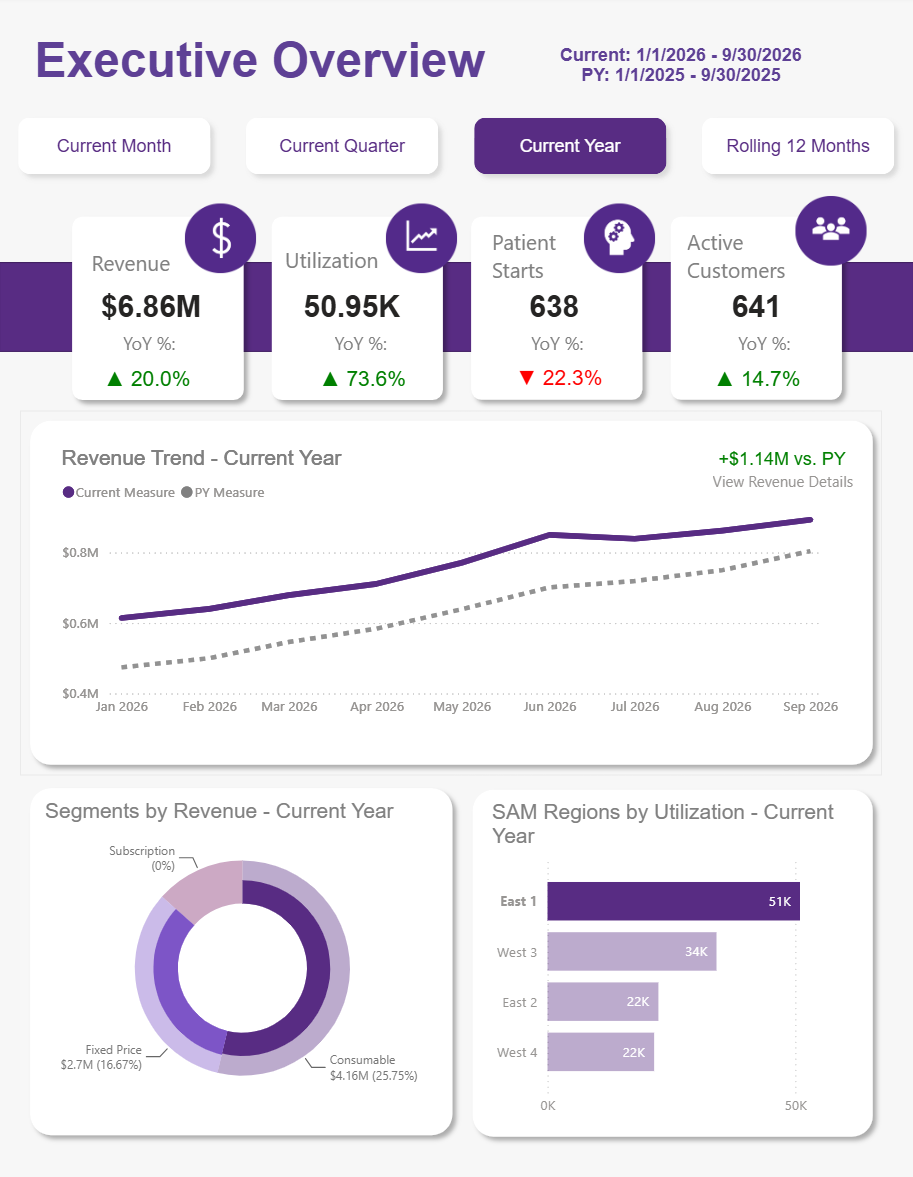

This screenshot's page, from the dashboard's own definition file:
{"tool":"powerbi","page":{"name":"Executive Summary","canvas":[816,1056],"ordinal":0},"visuals":[{"type":"shape","box":[56.5,187.8,170.9,181.3],"z":0,"group":"g2"},{"type":"group","id":"g1","title":"Group 3","box":[18.4,697.4,394,327],"z":0},{"type":"shape","box":[18.4,697.4,394,327],"z":0,"group":"g1"},{"type":"shape","box":[412.4,698.7,374.3,327],"z":0,"group":"g3"},{"type":"donutChart","fields":{"Category":["Daily Revenue.Account Segment"],"Y":["Daily Revenue.Current Daily Measure"]},"box":[36.1,715.4,361.5,288.5],"z":250,"group":"g1"},{"type":"donutChart","fields":{"Category":["Monthly Revenue.Account Segment"],"Y":["Monthly Revenue.KPI Revenue - Total Period"]},"box":[34.6,713.5,363.3,291.6],"z":500,"group":"g1"},{"type":"shape","box":[234.6,187.8,170.5,181.3],"z":1000,"group":"g2"},{"type":"shape","box":[0,237.7,815.6,80.1],"z":1000},{"type":"advancedSlicerVisual","fields":{"Values":["Period Selection.Period"]},"box":[0,91.9,815.6,84.1],"z":2000},{"type":"shape","box":[412.3,187.8,170.5,181],"z":2000,"group":"g2"},{"type":"shape","box":[590,187.8,170.5,181],"z":3000,"group":"g2"},{"type":"shape","box":[18.4,370.4,768.4,324.4],"z":3000},{"type":"card","fields":{"Values":["Monthly Revenue.KPI Revenue - Total Period"]},"box":[70.8,246,128.1,60],"z":3500,"group":"g2"},{"type":"card","fields":{"Values":["Monthly Utz.KPI - Utilization Period"]},"box":[250.7,246,128,60],"z":3750,"group":"g2"},{"type":"card","fields":{"Values":["Patient Starts.KPI - Starts Period"]},"box":[430.4,246,128,60],"z":3875,"group":"g2"},{"type":"card","fields":{"Values":["Active Customers Monthly.KPI - Active Customers Period"]},"box":[610.1,246,128,60],"z":3937,"group":"g2"},{"type":"group","id":"g2","title":"Group 1","box":[56.5,187.8,704,181.3],"z":4000},{"type":"textbox","box":[78.2,219.6,88,40.7],"z":4000,"group":"g2"},{"type":"textbox","box":[249.8,217,98.7,36],"z":5000,"group":"g2"},{"type":"group","id":"g3","title":"Group 3","box":[412.4,698.7,374.3,327],"z":5000},{"type":"image","box":[134,179.9,127.4,72.2],"z":6000},{"type":"textbox","box":[434.1,201.2,90.6,78.8],"z":6000,"group":"g2"},{"type":"image","box":[312.6,179.9,127.4,72.2],"z":7000},{"type":"barChart","fields":{"Category":["Monthly Utz.Region"],"Y":["Monthly Utz.KPI - Utilization Period"]},"box":[433.4,717.7,333.7,289],"z":7000,"group":"g3"},{"type":"image","box":[488.6,179.9,127.4,72.2],"z":8000},{"type":"image","box":[677.7,173.4,127.4,72.2],"z":9000},{"type":"lineChart","fields":{"Category":["DimDate.DayOfMonth"],"Y":["Daily Revenue.Current Daily Measure","Daily Revenue.PY Daily Measure"]},"box":[53.9,400.6,701.4,249.6],"z":10000},{"type":"lineChart","fields":{"Category":["Monthly Revenue.MM/YYYY"],"Y":["Monthly Revenue.Current Measure","Monthly Revenue.PY Measure"]},"box":[51.3,402.6,701.4,249.6],"z":11000},{"type":"card","fields":{"Values":["Measure Table.Selected Period Date Range"]},"box":[478.2,28.2,257.4,68.3],"z":12000},{"type":"textbox","box":[105.9,293.2,59.2,47.7],"z":12000,"group":"g2"},{"type":"textbox","box":[294,293.2,59.2,47.7],"z":13000,"group":"g2"},{"type":"card","fields":{"Values":["Patient Starts.Starts - Total YoY Display"]},"box":[429.5,320.8,137,42],"z":13000},{"type":"textbox","box":[26.9,28.2,446.1,73.5],"z":14000},{"type":"textbox","box":[469.3,293.2,59.2,47.7],"z":14000,"group":"g2"},{"type":"textbox","box":[653.5,293.2,60.9,47.7],"z":15000,"group":"g2"},{"type":"lineChart","fields":{"Category":["Monthly Revenue.MM/YYYY"],"Y":["Monthly Revenue.Current Measure","Monthly Revenue.PY Measure"]},"box":[51.3,402.6,701.4,249.6],"z":15000},{"type":"card","fields":{"Values":["Monthly Revenue.Revenue Variance Formatted"]},"box":[628.2,400,138.5,29.5],"z":16000},{"type":"actionButton","title":"See Details","box":[620.5,419.2,153.8,20.5],"z":16001},{"type":"textbox","box":[607.5,201.2,140.5,65.7],"z":19500,"group":"g2"},{"type":"card","fields":{"Values":["Monthly Revenue.Revenue - Total YoY Display"]},"box":[63.6,320.8,137.9,42],"z":20000,"group":"g2"},{"type":"card","fields":{"Values":["Monthly Utz.Utz - Total YoY Display"]},"box":[255.1,320.8,137,42],"z":20500,"group":"g2"},{"type":"card","fields":{"Values":["Active Customers Monthly.Active Customers - Total YoY Display"]},"box":[606.2,320.8,137,42],"z":21500,"group":"g2"}]}

Visuals, with their boxes in screenshot pixels (x1, y1, x2, y2), scaled from the page's 816x1056 canvas onto the 913x1177 screenshot:
shape: 63 209 254 411
"Group 3" group: 21 777 461 1142
shape: 21 777 461 1142
shape: 461 779 880 1143
donutChart - Daily Revenue.Account Segment x Daily Revenue.Current Daily Measure: 40 797 445 1119
donutChart - Monthly Revenue.Account Segment x Monthly Revenue.KPI Revenue - Total Period: 39 795 445 1120
shape: 262 209 453 411
shape: 0 265 912 354
advancedSlicerVisual - Period Selection.Period: 0 102 912 196
shape: 461 209 652 411
shape: 660 209 851 411
shape: 21 413 880 774
card - Monthly Revenue.KPI Revenue - Total Period: 79 274 223 341
card - Monthly Utz.KPI - Utilization Period: 281 274 424 341
card - Patient Starts.KPI - Starts Period: 482 274 625 341
card - Active Customers Monthly.KPI - Active Customers Period: 683 274 826 341
"Group 1" group: 63 209 851 411
textbox: 87 245 186 290
textbox: 279 242 390 282
"Group 3" group: 461 779 880 1143
image: 150 201 292 281
textbox: 486 224 587 312
image: 350 201 492 281
barChart - Monthly Utz.Region x Monthly Utz.KPI - Utilization Period: 485 800 858 1122
image: 547 201 689 281
image: 758 193 901 274
lineChart - DimDate.DayOfMonth x Daily Revenue.Current Daily Measure: 60 447 845 725
lineChart - Monthly Revenue.MM/YYYY x Monthly Revenue.Current Measure: 57 449 842 727
card - Measure Table.Selected Period Date Range: 535 31 823 108
textbox: 118 327 185 380
textbox: 329 327 395 380
card - Patient Starts.Starts - Total YoY Display: 481 358 634 404
textbox: 30 31 529 113
textbox: 525 327 591 380
textbox: 731 327 799 380
lineChart - Monthly Revenue.MM/YYYY x Monthly Revenue.Current Measure: 57 449 842 727
card - Monthly Revenue.Revenue Variance Formatted: 703 446 858 479
"See Details" actionButton: 694 467 866 490
textbox: 680 224 837 297
card - Monthly Revenue.Revenue - Total YoY Display: 71 358 225 404
card - Monthly Utz.Utz - Total YoY Display: 285 358 439 404
card - Active Customers Monthly.Active Customers - Total YoY Display: 678 358 832 404
